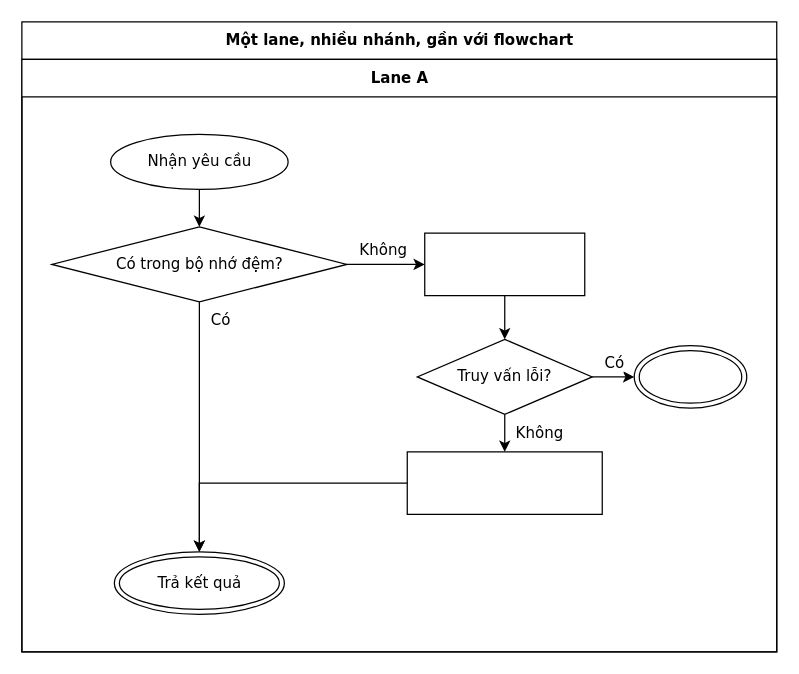
Image size: 799x674. Some labels were removed from this diagram. The shapes that lost their labels are listed below. From the top down, each one's centre as x and y in pixels, then its label:
At point 504,264: "Truy vấn nguồn".
At point 690,376: "Trả lỗi".
At point 504,482: "Ghi vào bộ nhớ đệm".
